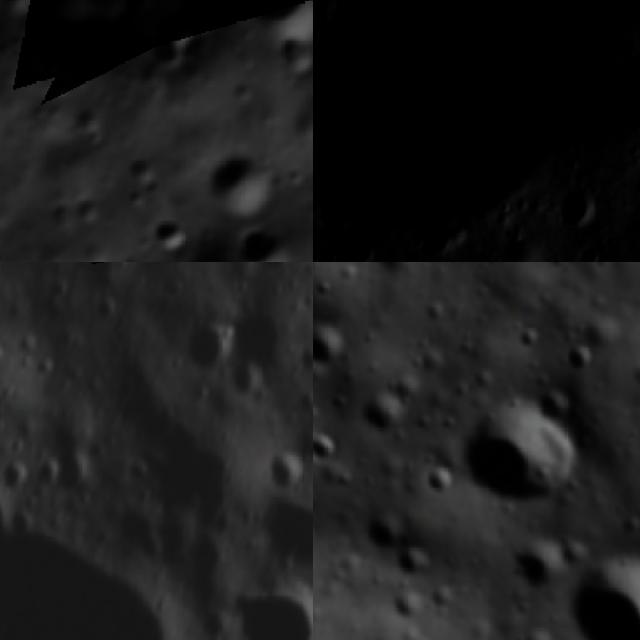crater: (313, 0, 633, 232), (450, 380, 596, 510), (190, 131, 304, 236), (138, 0, 238, 88), (560, 533, 640, 640), (11, 0, 150, 51), (231, 0, 313, 71), (243, 496, 313, 571), (215, 587, 313, 640), (229, 203, 304, 262), (137, 204, 206, 262), (106, 505, 164, 568), (356, 384, 426, 436), (174, 323, 234, 376), (228, 365, 282, 413), (507, 538, 562, 585), (55, 447, 95, 506), (257, 448, 308, 491), (313, 319, 353, 370), (552, 188, 602, 228), (556, 337, 596, 378), (390, 540, 432, 575), (504, 316, 545, 351), (2, 460, 36, 502), (313, 427, 343, 472), (203, 242, 258, 262), (420, 459, 449, 494), (91, 295, 116, 324), (251, 262, 298, 275), (313, 270, 335, 296)
